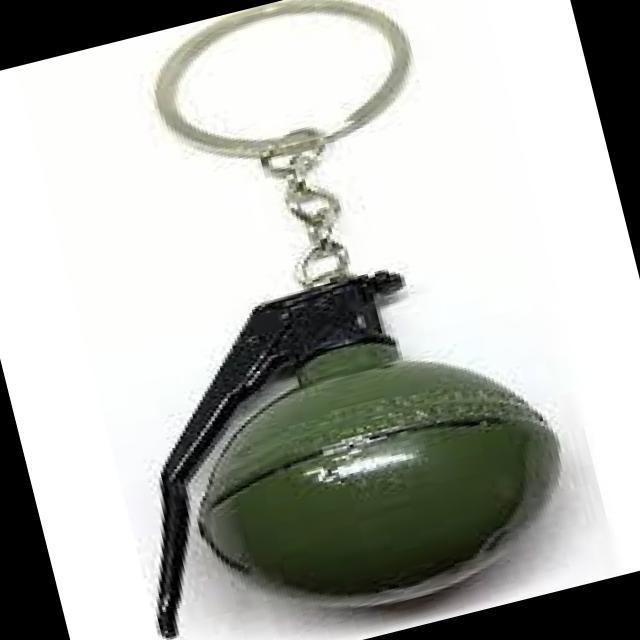grenade: (14, 0, 601, 640)
